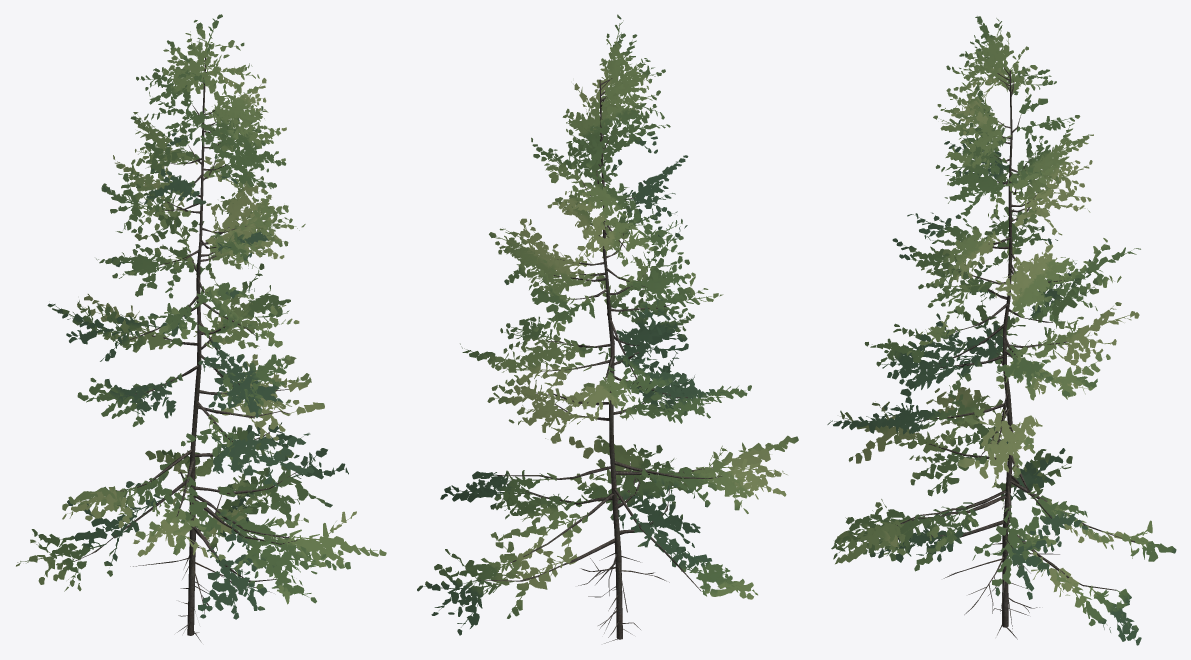
File: grounded-conifer-quiet.glb
3 views of the same model, side by side, from view 1: azimuth 30°, elevation 25°; view 2: azimuth 150°, elevation 25°; view 3: azimuth 270°, elevation 25° (orthographic). The views are drawn at different scales.
Visible parts, largest first — view 1: grounded-conifer-quiet runtime mesh; view 2: grounded-conifer-quiet runtime mesh; view 3: grounded-conifer-quiet runtime mesh.
Boxes of the visible parts, box(x1,y1,x2,y2) form: grounded-conifer-quiet runtime mesh: box(16, 14, 386, 642); grounded-conifer-quiet runtime mesh: box(417, 14, 798, 643); grounded-conifer-quiet runtime mesh: box(827, 16, 1176, 645).
Size of the model in its own units: 3 by 5.58 by 2.81.
Materials: 3 (2 with a texture image).
